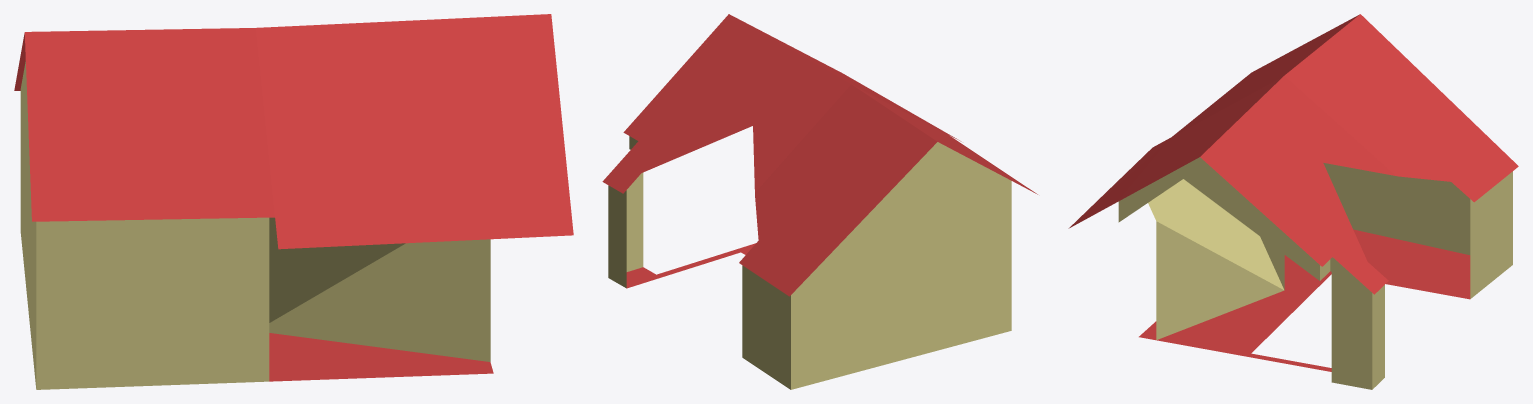
The picture shows the model from 3 angles, left to right: view 1: azimuth 30°, elevation 25°; view 2: azimuth 150°, elevation 25°; view 3: azimuth 270°, elevation 25°; orthographic projection. The views are drawn at different scales.
Bounding box in the file's own units: 25.89 × 26 × 13.68.
